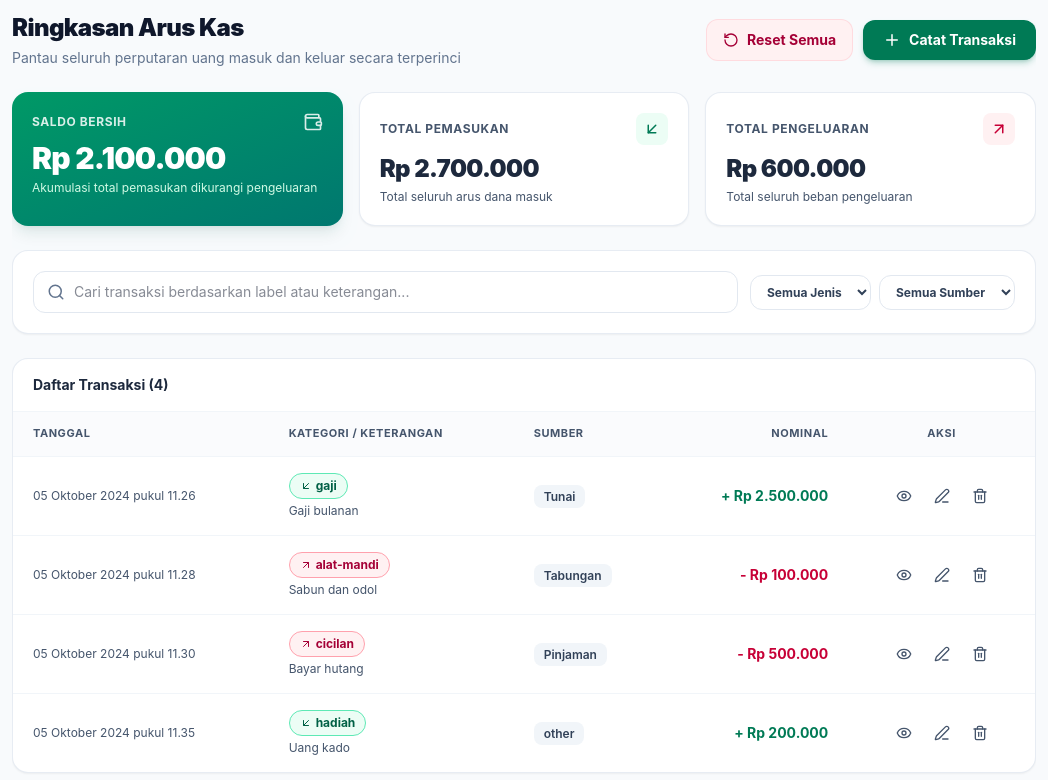
HomePage › should render cash flows list and filter by search query
The width and height of the screenshot is (1048, 780).
Note: Search by label
In the field with test id "search-cashflow-input": point(386, 292) x1=33 y1=271 x2=738 y2=313, type "gaji"
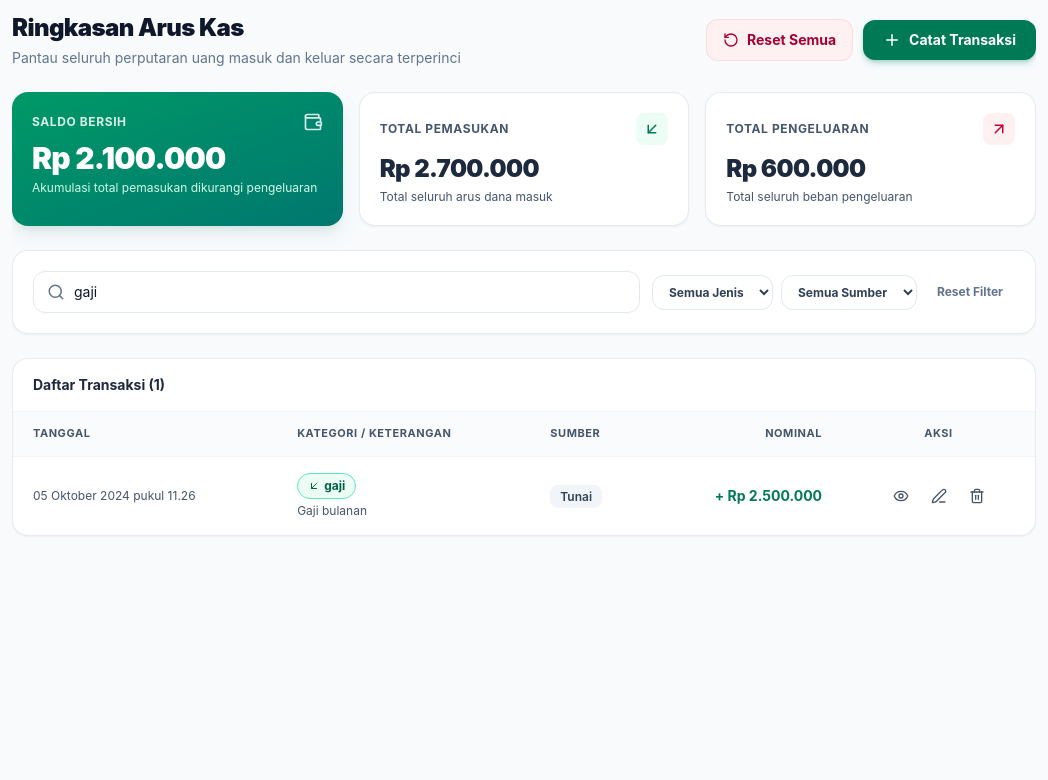
Check: the text "gaji" is shown, box x1=297 y1=473 x2=356 y2=499
Check: the text "alat-mandi" is gone
Note: Search by description
Replace the text in the field with test id "search-cashflow-input" with "sabun": point(336, 292) x1=33 y1=271 x2=640 y2=313
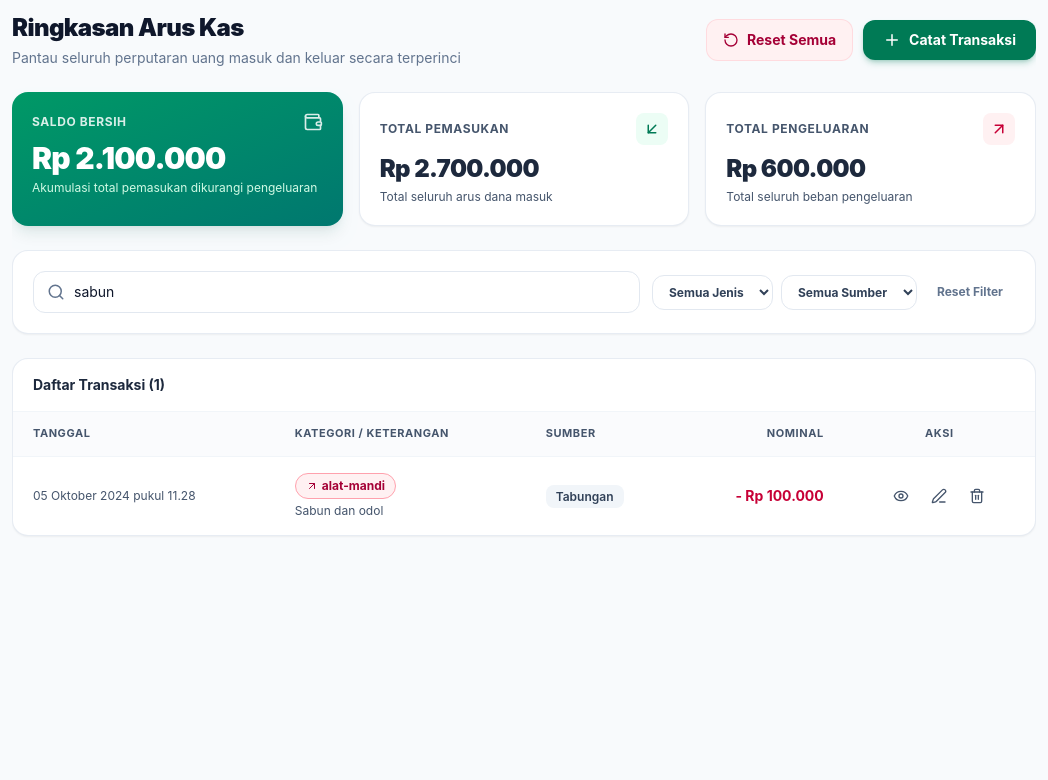
Check: the text "alat-mandi" is shown, box x1=295 y1=473 x2=396 y2=499
Check: the text "gaji" is gone
